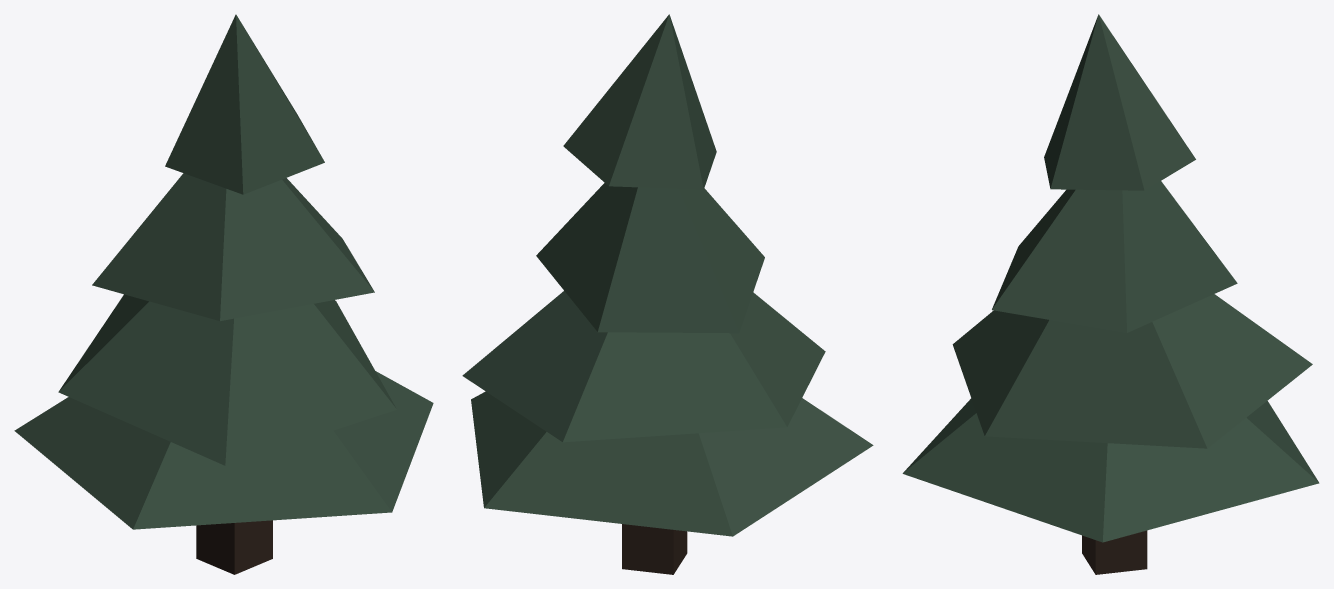
Rendered from Pine01.fbx.
3 renders of one model, left to right at view 1: azimuth 30°, elevation 25°; view 2: azimuth 150°, elevation 25°; view 3: azimuth 270°, elevation 25°, orthographic.
Parts seen in each view (by area): view 1: Pine1; view 2: Pine1; view 3: Pine1.
Boxes of the visible parts, x1=… form: Pine1: x1=14, y1=14, x2=433, y2=574; Pine1: x1=462, y1=14, x2=873, y2=574; Pine1: x1=902, y1=14, x2=1319, y2=574.
Bounding box in the file's own units: 0.3747 × 0.5567 × 0.3871.
